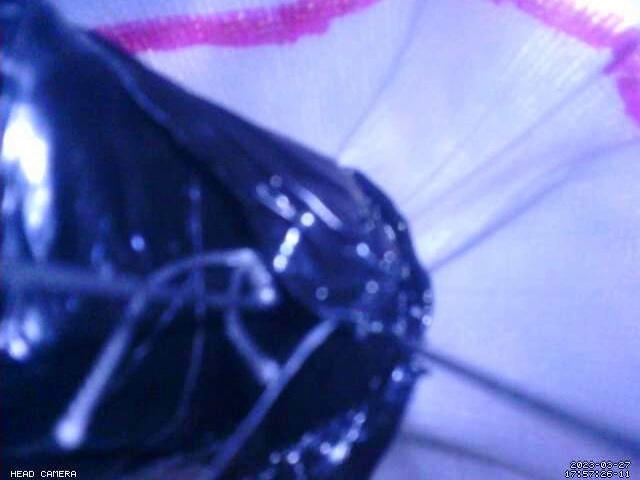red-circle: (88, 0, 640, 129)
